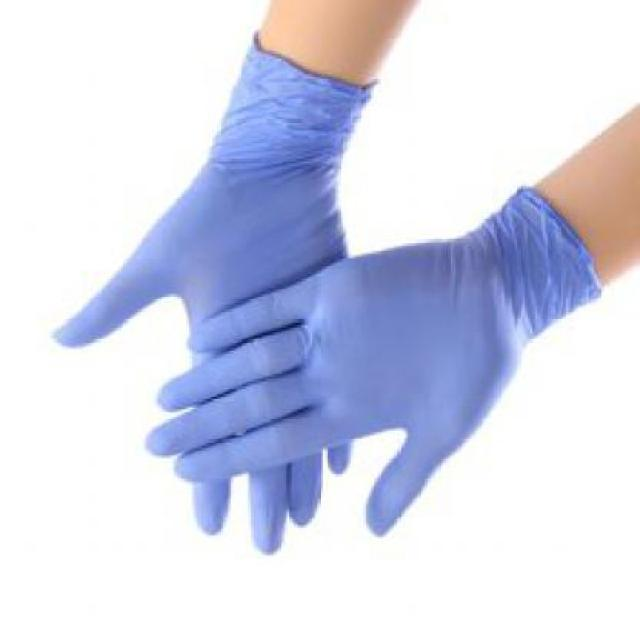gloved_hand: (31, 31, 402, 562), (142, 188, 610, 536)
